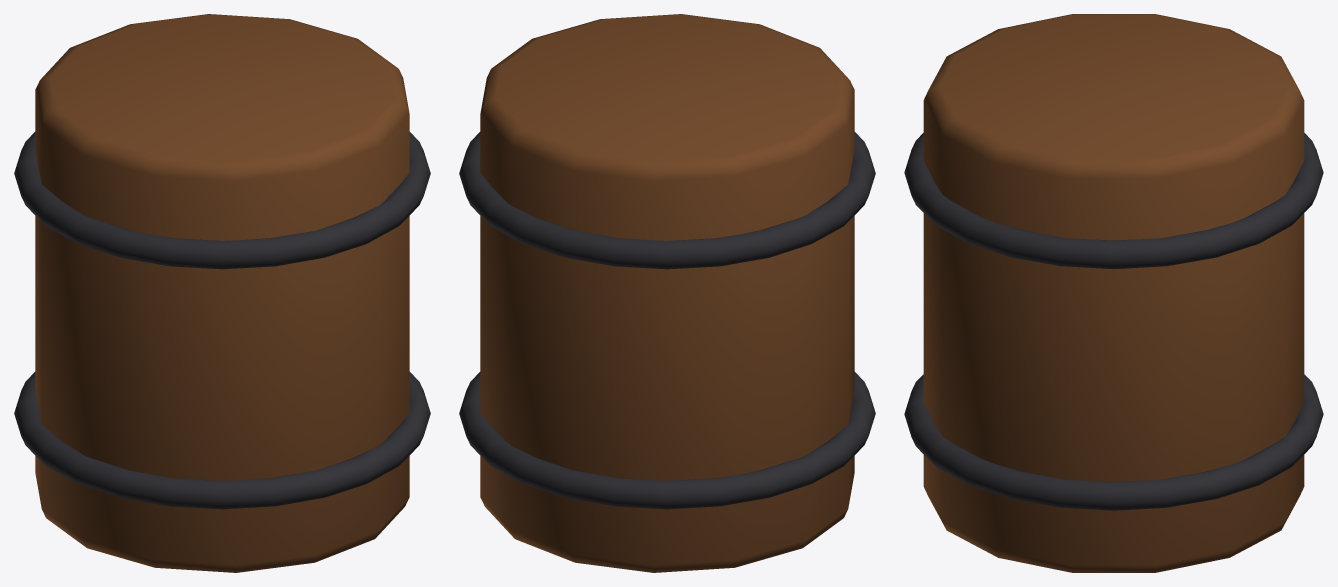
Rendered from barrel.glb.
The picture shows the model from 3 angles, left to right: view 1: azimuth 30°, elevation 25°; view 2: azimuth 150°, elevation 25°; view 3: azimuth 270°, elevation 25°; orthographic projection.
Visible parts, largest first — view 1: barrel; view 2: barrel; view 3: barrel.
Boxes of the visible parts, box(x1,y1,x2,y2) form: barrel: box(14, 14, 430, 572); barrel: box(459, 14, 875, 572); barrel: box(904, 14, 1323, 572).
Bounding box in the file's own units: 1.1 × 1.2 × 1.1.
